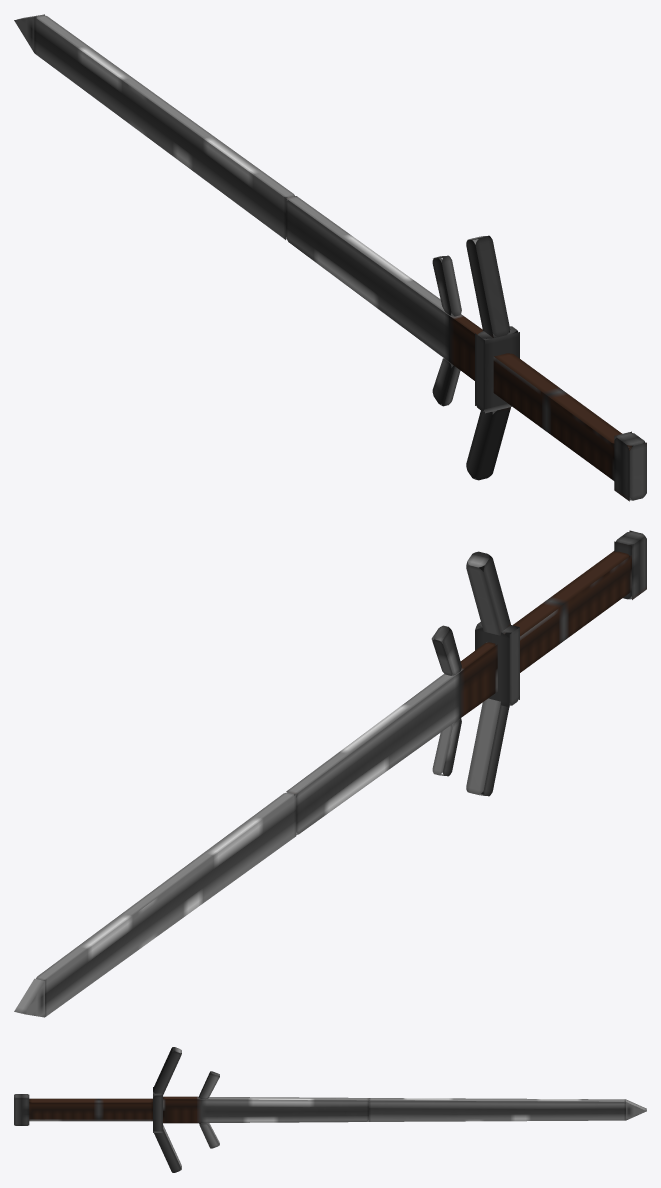
The model's file is zweihander.fbx.
The picture shows the model from 3 angles, top to bottom: view 1: azimuth 30°, elevation 25°; view 2: azimuth 150°, elevation 25°; view 3: azimuth 270°, elevation 25°; orthographic projection. The views are drawn at different scales.
Visible parts, largest first — view 1: cube_4, cube_1, cube_7, cube_3, cube_2, cube_6, cube_5, cube; view 2: cube_4, cube_1, cube_6, cube_7, cube_3, cube_2, cube, cube_5; view 3: cube_4, cube_1, cube_7, cube_6, cube_2, cube_3, cube_5, cube.
Boxes of the visible parts, bbox=[...] form: cube_4: bbox=[14, 14, 482, 380]; cube_1: bbox=[493, 353, 631, 480]; cube_7: bbox=[466, 235, 510, 337]; cube_3: bbox=[475, 326, 519, 413]; cube_2: bbox=[614, 431, 646, 501]; cube_6: bbox=[466, 407, 510, 480]; cube_5: bbox=[432, 255, 461, 316]; cube: bbox=[432, 358, 460, 406]; cube_4: bbox=[14, 642, 497, 1017]; cube_1: bbox=[513, 551, 631, 672]; cube_6: bbox=[466, 698, 509, 796]; cube_7: bbox=[466, 551, 510, 635]; cube_3: bbox=[475, 622, 519, 707]; cube_2: bbox=[614, 530, 646, 599]; cube: bbox=[432, 718, 461, 776]; cube_5: bbox=[431, 625, 461, 675]; cube_4: bbox=[163, 1096, 646, 1123]; cube_1: bbox=[29, 1098, 152, 1121]; cube_7: bbox=[153, 1047, 181, 1096]; cube_6: bbox=[154, 1125, 181, 1172]; cube_2: bbox=[14, 1094, 29, 1125]; cube_3: bbox=[153, 1087, 162, 1132]; cube_5: bbox=[198, 1071, 219, 1098]; cube: bbox=[199, 1123, 219, 1148].
Bounding box in the file's own units: 12.5 × 82.74 × 385.
Materials: 1 (1 with a texture image).
